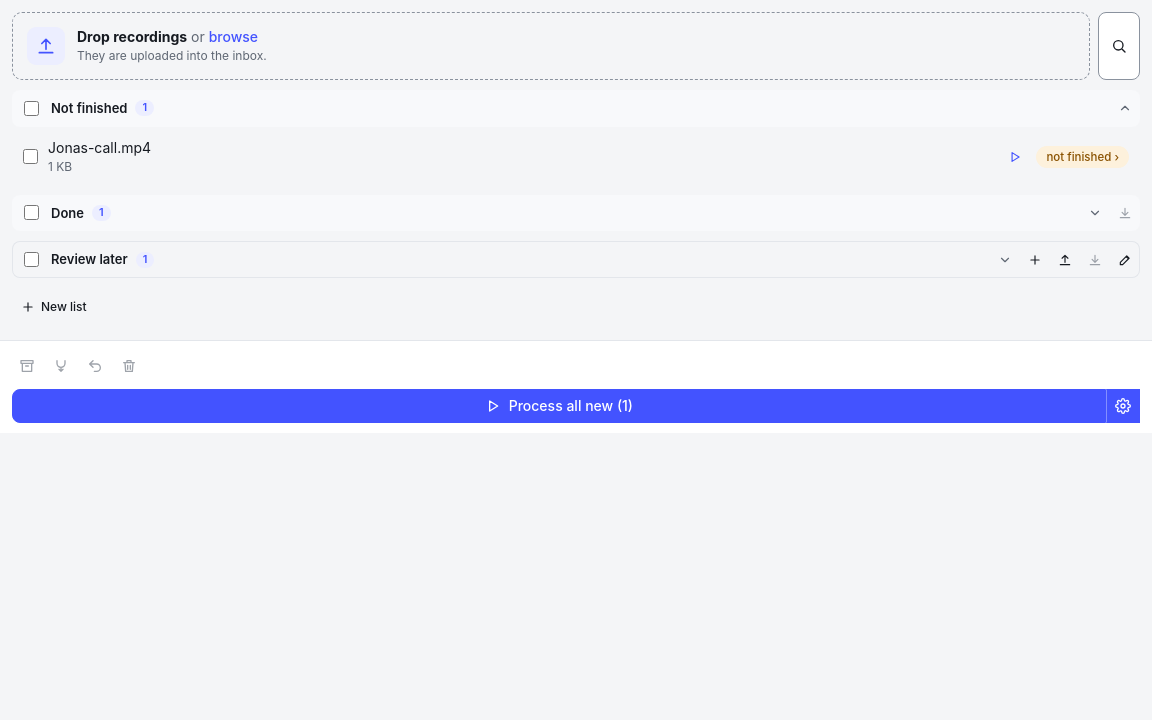
InboxPanel own lists › adds the rows ticked in a list's + picker, which leaves out the rows already in it
The image size is (1152, 720).
Click the button named "add rows to the list Review later" at (1035, 260), box [1024, 249, 1046, 271]
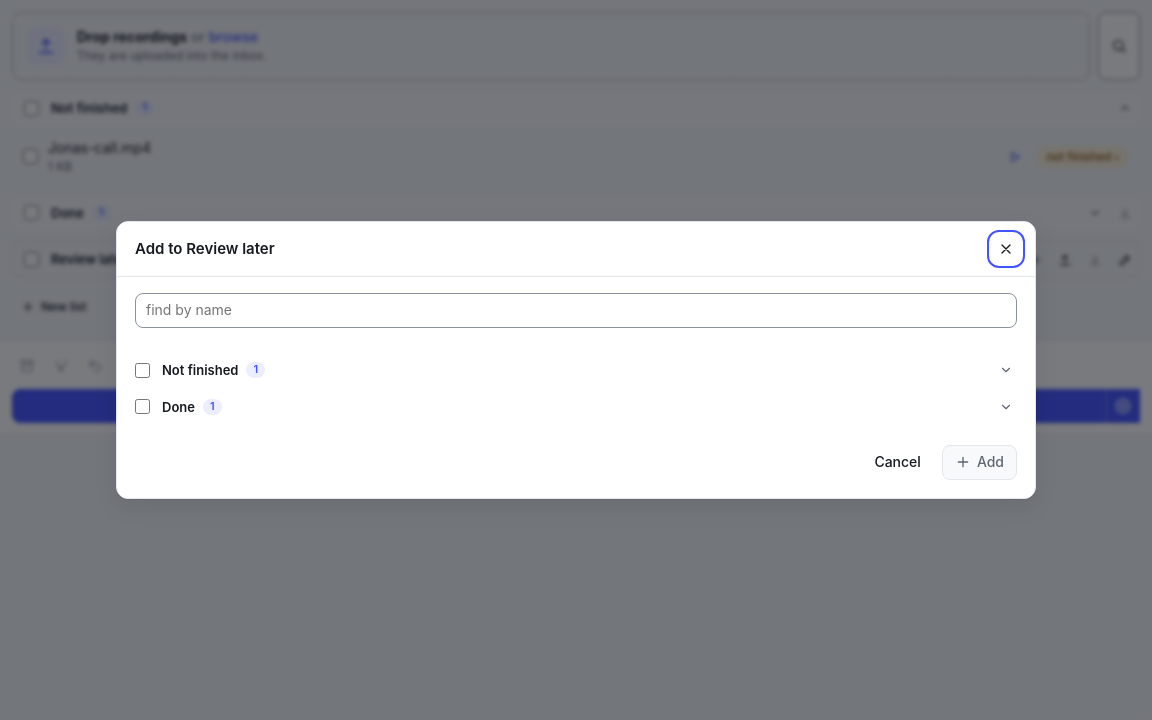
Expected: the button "Add" is disabled, [942, 445, 1017, 480]
Click the button "Done 1" at (178, 406), box [158, 392, 1017, 421]
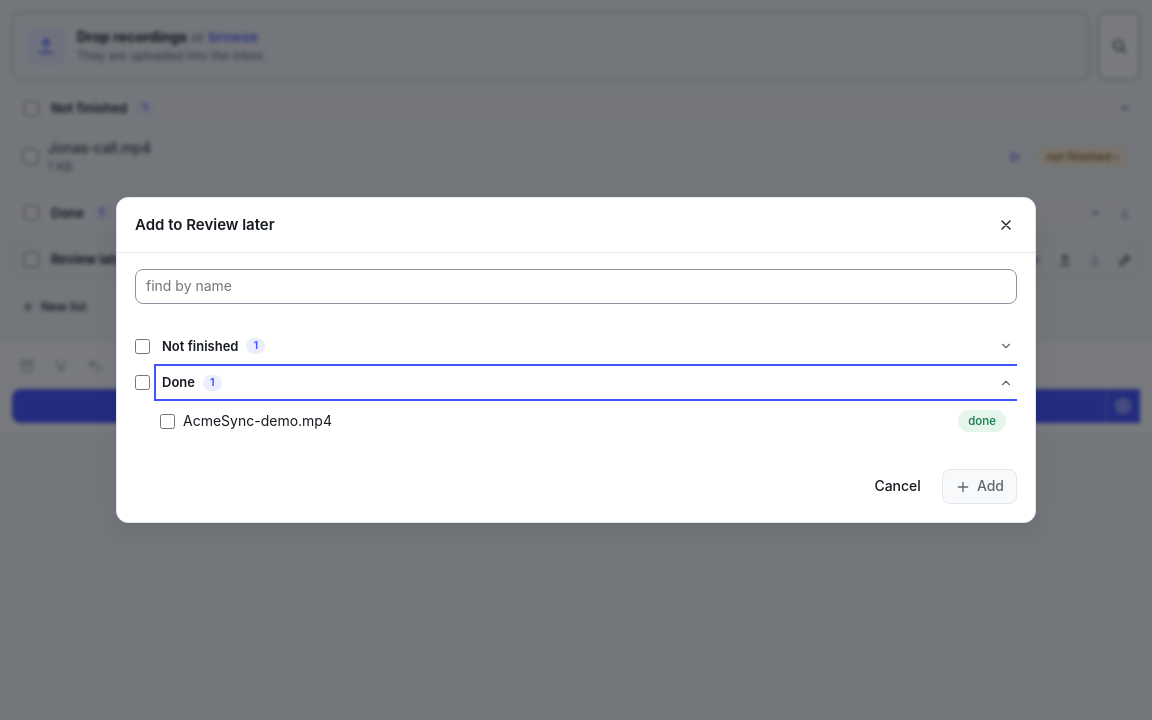
Click the checkbox named "pick AcmeSync-demo.mp4" at (168, 421), box [160, 414, 175, 429]
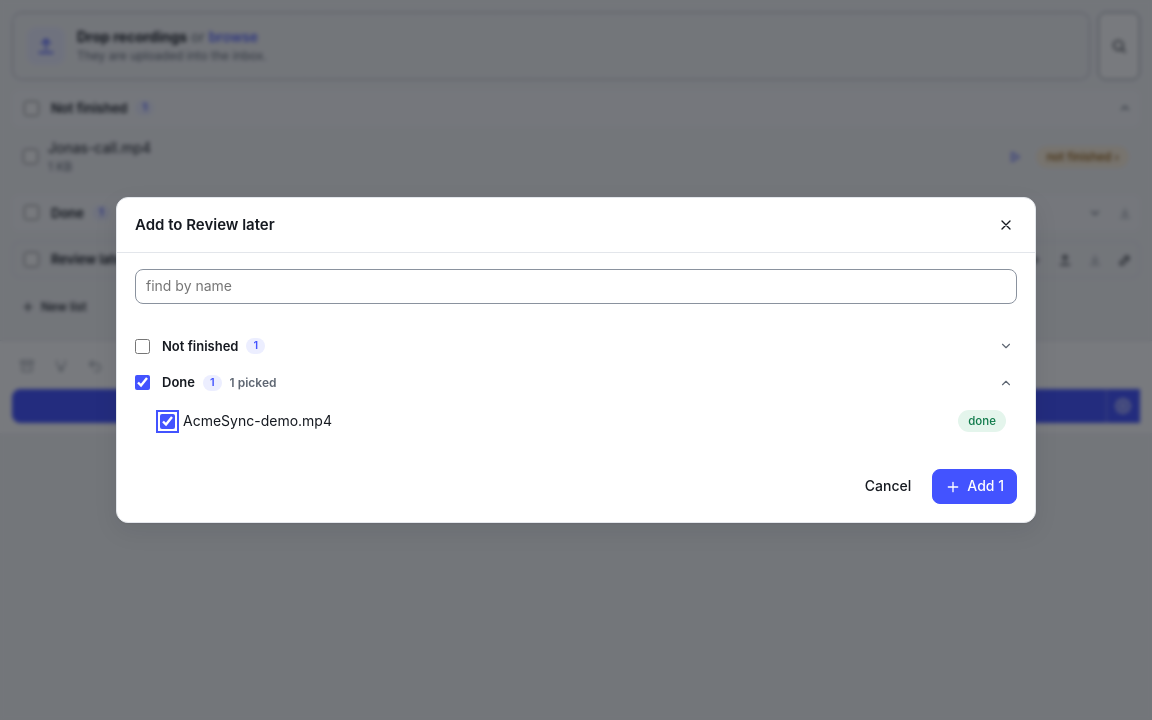
Click the button "Add 1" at (975, 487), box [932, 469, 1017, 504]
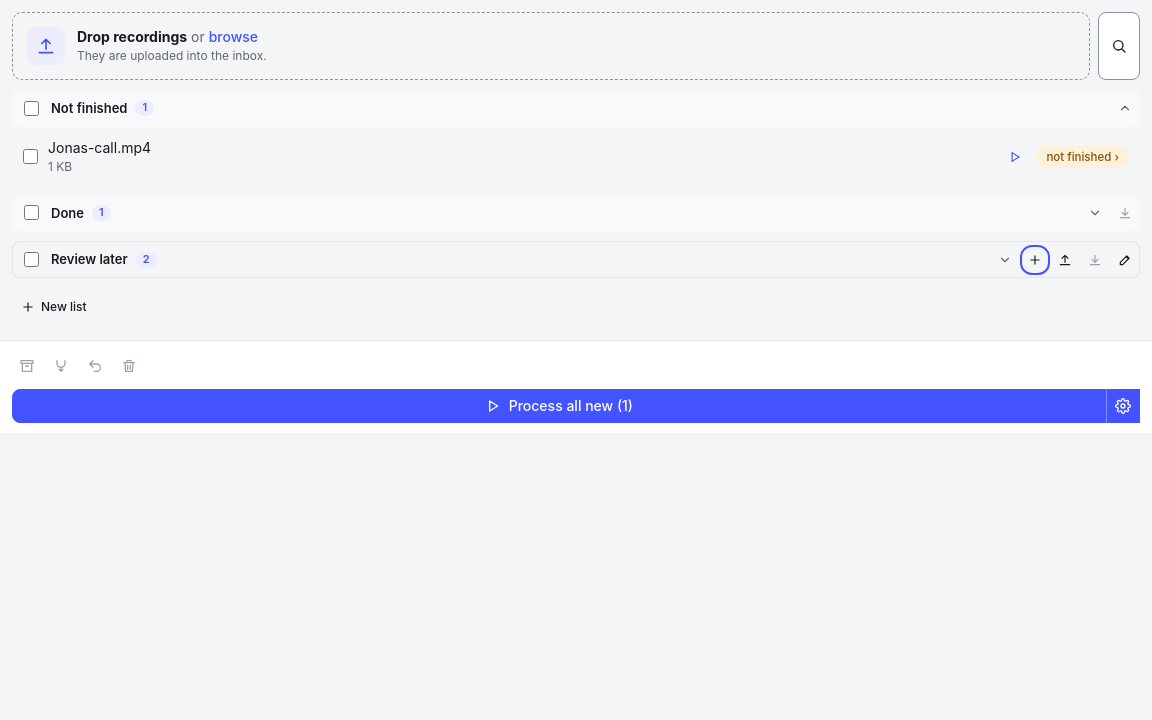
Expected: the dialog is gone
